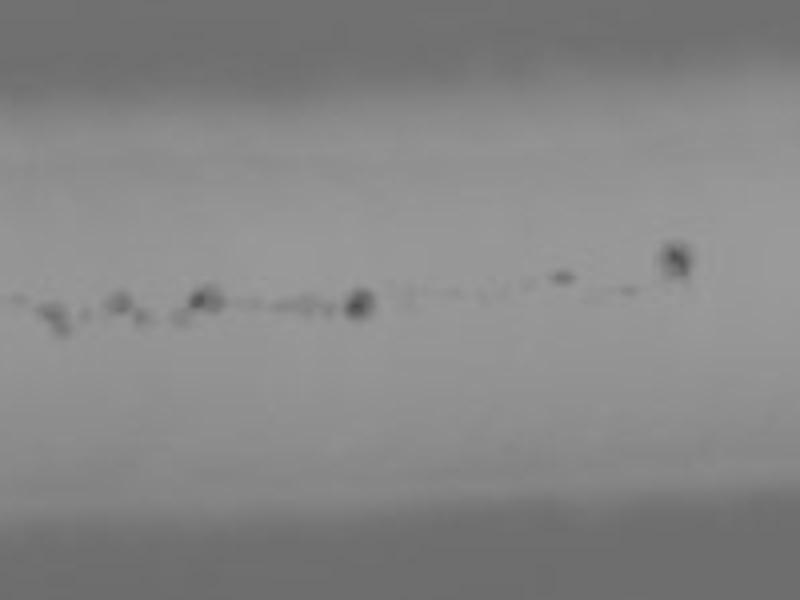defect: (271, 290, 339, 323), (660, 237, 703, 281), (187, 284, 230, 315), (40, 303, 75, 339), (346, 291, 376, 324), (104, 290, 137, 314), (169, 307, 198, 331), (546, 268, 574, 290), (619, 279, 643, 302), (4, 292, 32, 310), (133, 312, 156, 333), (75, 309, 98, 325)
